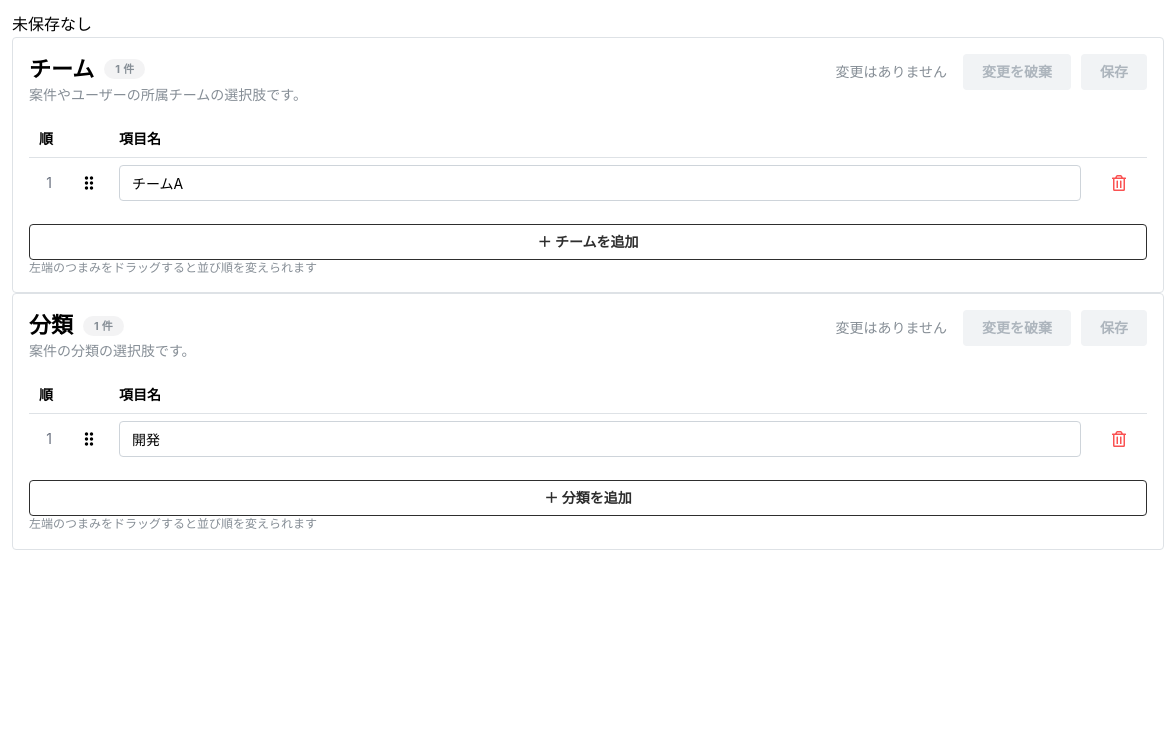
it: 管理画面の未保存の変更の共有（DashboardUnsavedChangesProvider） › 項目管理の SelectOptionList の未保存の変更も報告し、保存に成功したら解除する
This screenshot has width=1164, height=732.
Replace the text in the field showing "チームA" with "チームA2". click: [600, 183]
box: [119, 165, 1081, 201]
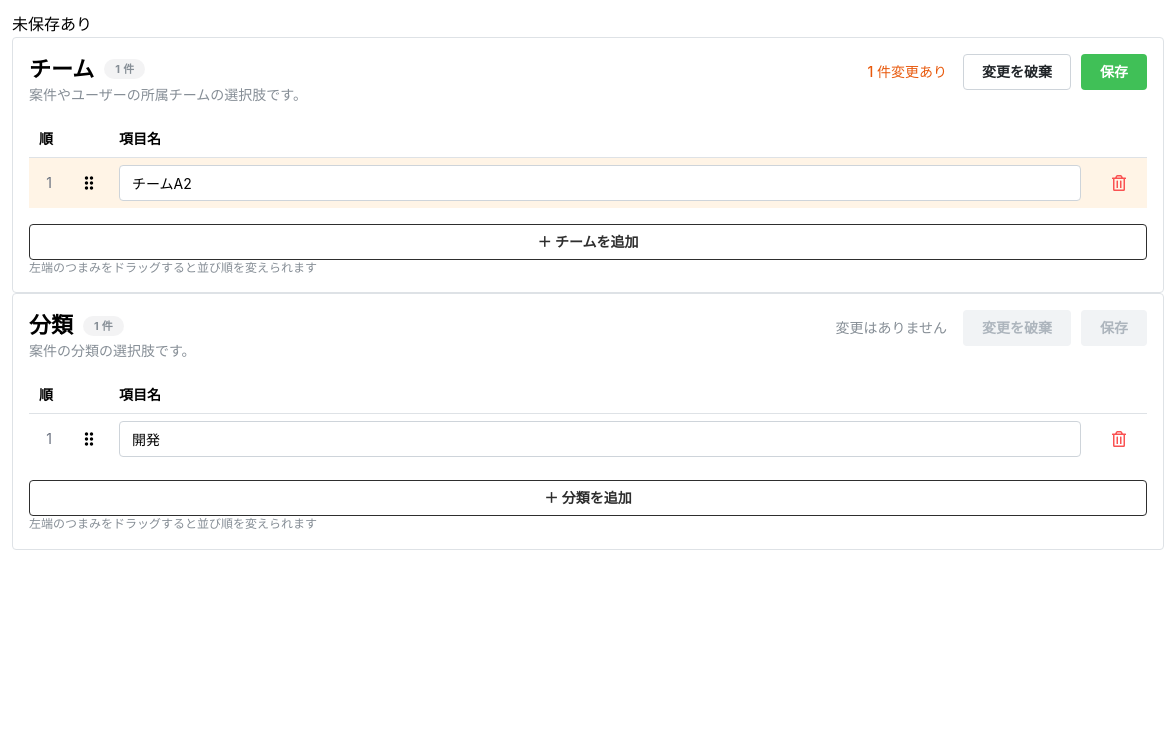
Check: the text with test id "probe" reads "未保存あり", box [12, 14, 92, 34]
Click the button "保存" in the row of "1 件変更あり". click: [1114, 72]
box: [1081, 54, 1147, 90]
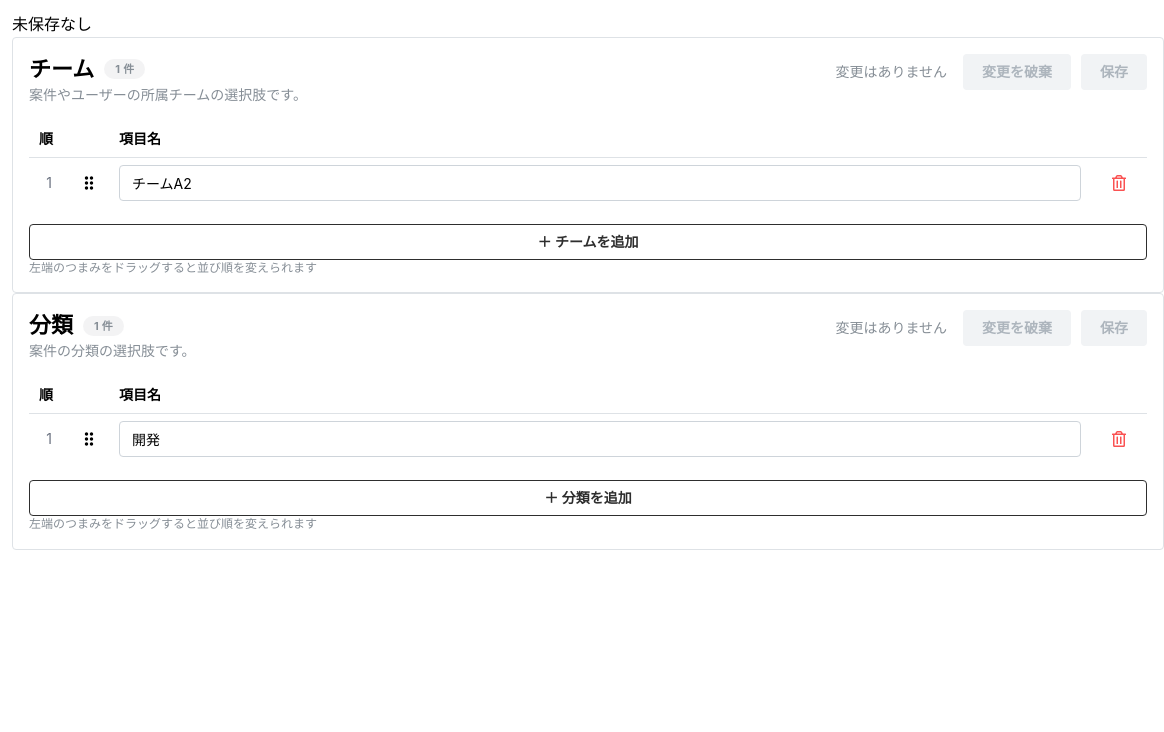
Check: the text with test id "probe" reads "未保存なし", box [12, 14, 92, 34]
